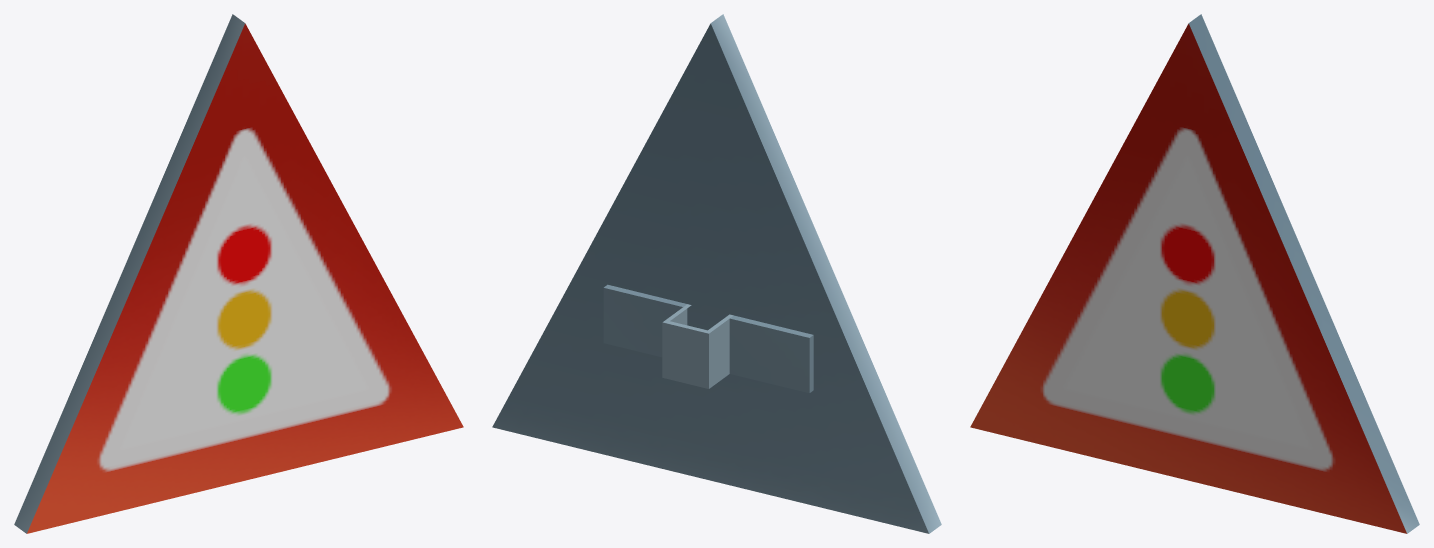
Rendered from Sign3Austrian.fbx.
The picture shows the model from 3 angles, left to right: view 1: azimuth 30°, elevation 25°; view 2: azimuth 150°, elevation 25°; view 3: azimuth 330°, elevation 25°; orthographic projection.
Parts seen in each view (by area): view 1: Sign3Austrian; view 2: Sign3Austrian; view 3: Sign3Austrian.
Part boxes in pixels (x1=…): Sign3Austrian: x1=14, y1=14, x2=463, y2=533; Sign3Austrian: x1=492, y1=14, x2=941, y2=533; Sign3Austrian: x1=970, y1=14, x2=1419, y2=533.
Bounding box in the file's own units: 1 × 1 × 0.1489.
